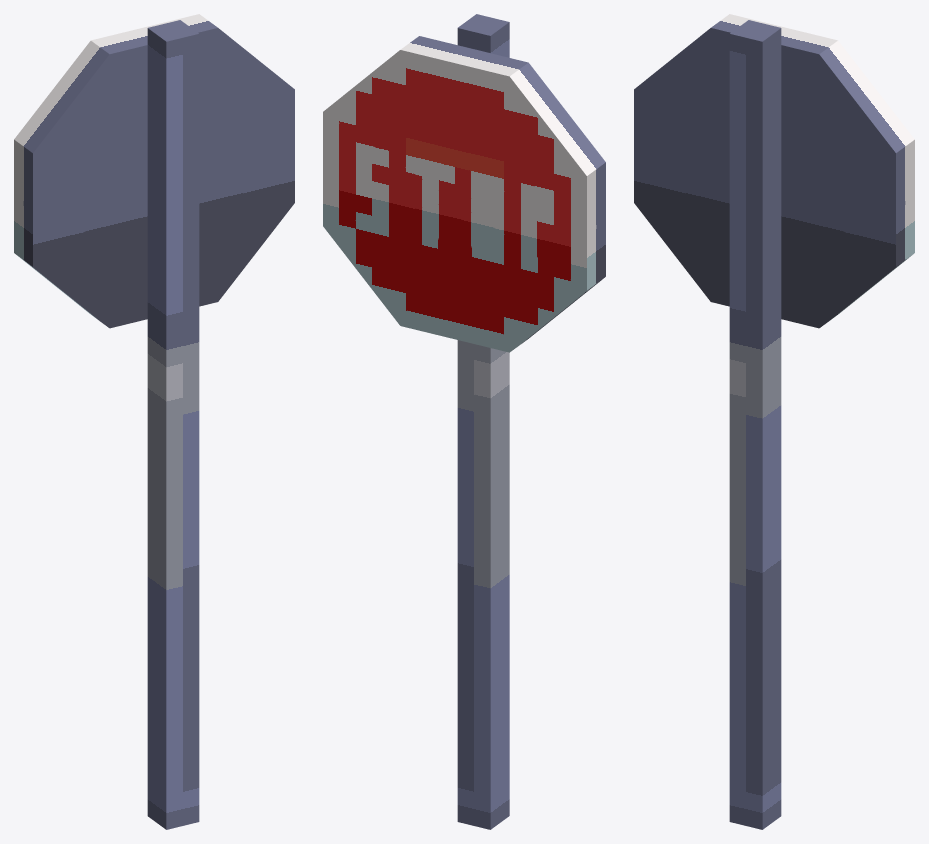
The model's file is stop-sign.gltf.
3 views of the same model, side by side, from view 1: azimuth 30°, elevation 25°; view 2: azimuth 150°, elevation 25°; view 3: azimuth 330°, elevation 25° (orthographic).
Parts seen in each view (by area): view 1: cylinder, cube; view 2: cylinder, cube; view 3: cylinder, cube.
Boxes of the visible parts, left/top/right/bottom form: cylinder: left=14, top=14, right=294, bottom=328; cube: left=147, top=20, right=199, bottom=829; cylinder: left=323, top=36, right=605, bottom=352; cube: left=457, top=14, right=509, bottom=829; cylinder: left=634, top=14, right=914, bottom=328; cube: left=729, top=20, right=781, bottom=829.
Bounding box in the file's own units: 1 × 2.88 × 0.25.
1 material, 1 textured.
